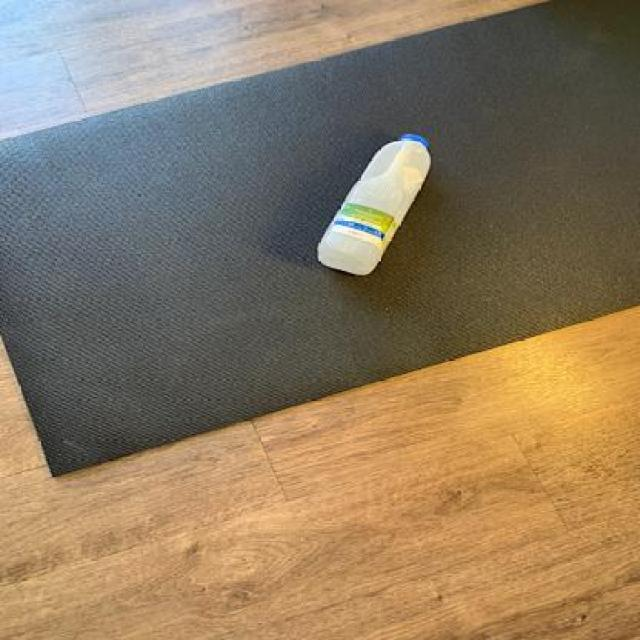trash: (314, 128, 435, 278)
